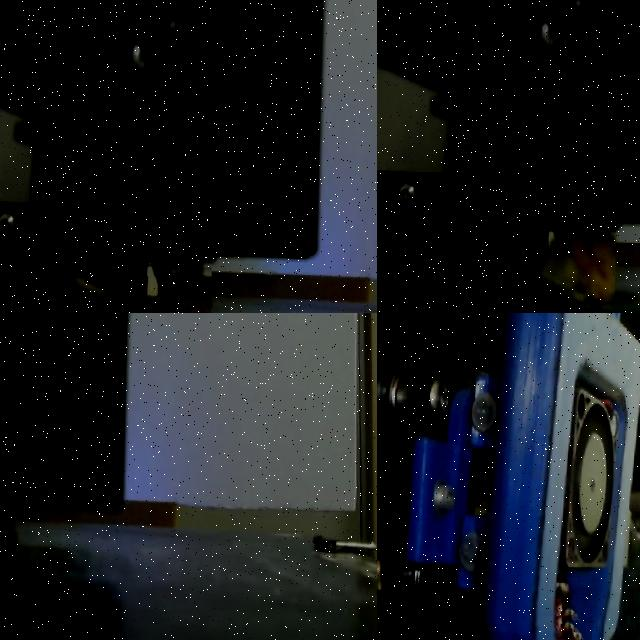spaghetti: (70, 266, 211, 313), (539, 220, 615, 302), (0, 520, 15, 558)
